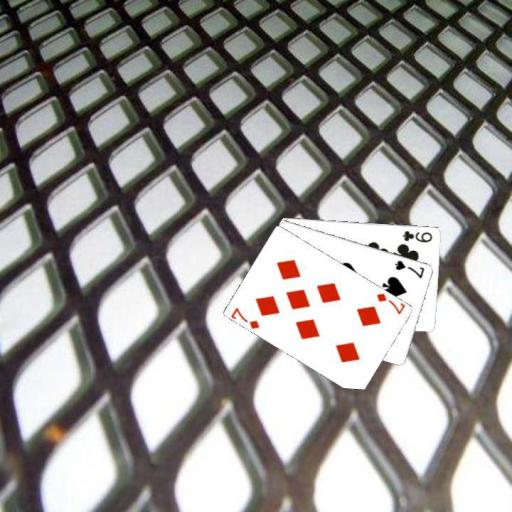7D: (373, 289, 406, 316), (229, 304, 262, 330)
7S: (392, 257, 426, 280)
9C: (400, 228, 434, 243)
